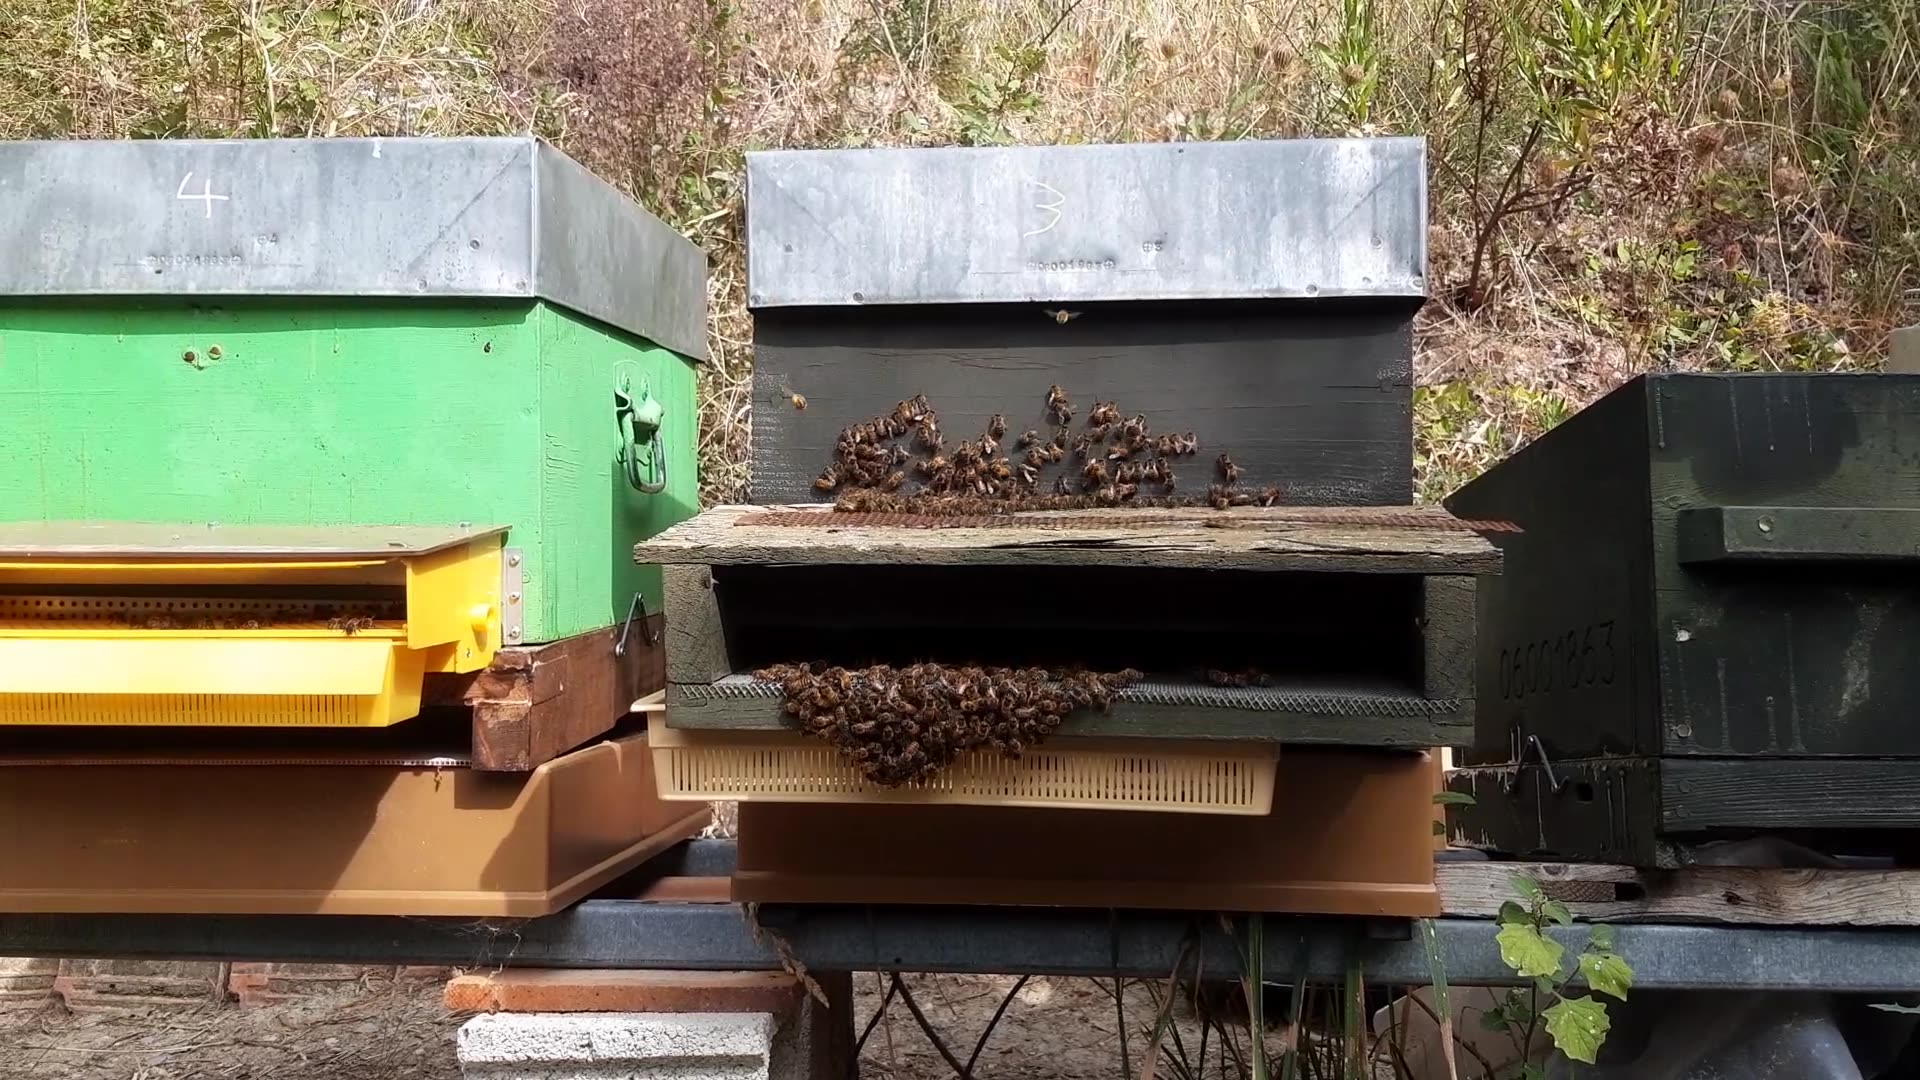bee: (865, 723, 945, 799), (811, 673, 901, 738), (945, 454, 1025, 512), (1153, 448, 1229, 506), (845, 411, 934, 462), (1025, 462, 1105, 516), (775, 675, 849, 731), (835, 460, 910, 513), (924, 415, 996, 471), (1039, 410, 1102, 458), (1018, 313, 1085, 353)
